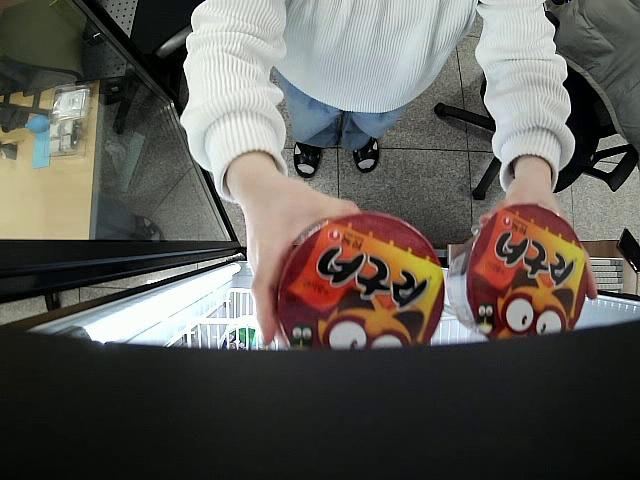00_hand: (226, 133, 359, 346), (476, 169, 599, 304)
05_nuguri_L: (276, 209, 447, 353), (450, 203, 590, 343)
